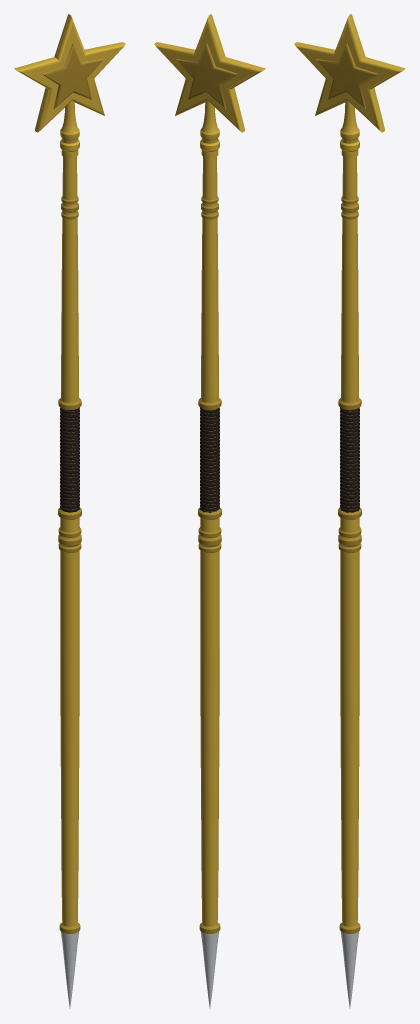
File: fixed-star.glb
3 views of the same model, side by side, from view 1: azimuth 30°, elevation 25°; view 2: azimuth 150°, elevation 25°; view 3: azimuth 330°, elevation 25° (orthographic).
Visible parts, largest first — view 1: shaft, star, grip, star-boss, bands, neck, point; view 2: shaft, star, grip, star-boss, bands, neck, point; view 3: shaft, star, grip, star-boss, bands, neck, point.
Boxes of the visible parts, bbox=[...] form: shaft: bbox=[60, 156, 79, 926]; star: bbox=[14, 14, 125, 132]; grip: bbox=[60, 407, 79, 512]; star-boss: bbox=[42, 43, 103, 108]; bands: bbox=[58, 196, 81, 933]; neck: bbox=[60, 100, 79, 157]; point: bbox=[61, 931, 78, 1008]; shaft: bbox=[200, 156, 219, 926]; star: bbox=[154, 14, 265, 132]; grip: bbox=[200, 407, 219, 512]; star-boss: bbox=[176, 43, 237, 108]; bands: bbox=[198, 196, 221, 933]; neck: bbox=[200, 100, 219, 157]; point: bbox=[201, 931, 218, 1008]; shaft: bbox=[340, 156, 359, 926]; star: bbox=[294, 14, 405, 132]; grip: bbox=[340, 407, 359, 512]; star-boss: bbox=[316, 43, 377, 108]; bands: bbox=[338, 196, 361, 933]; neck: bbox=[340, 100, 359, 157]; point: bbox=[341, 931, 358, 1008].
Bounding box in the file's own units: 0.226 × 1.96 × 0.0431.
